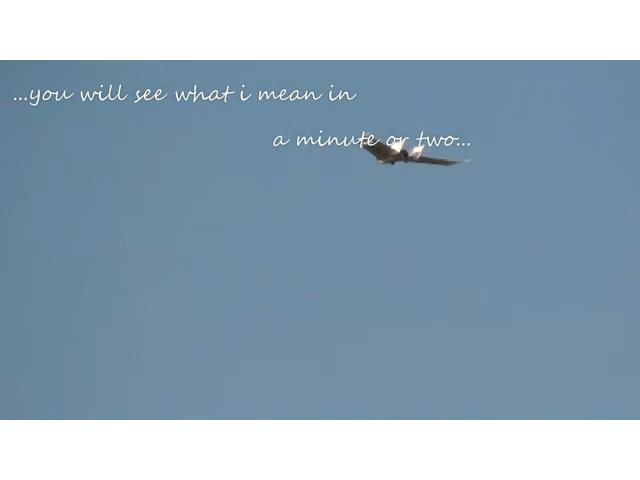Anti-Drone: (348, 131, 478, 184)
